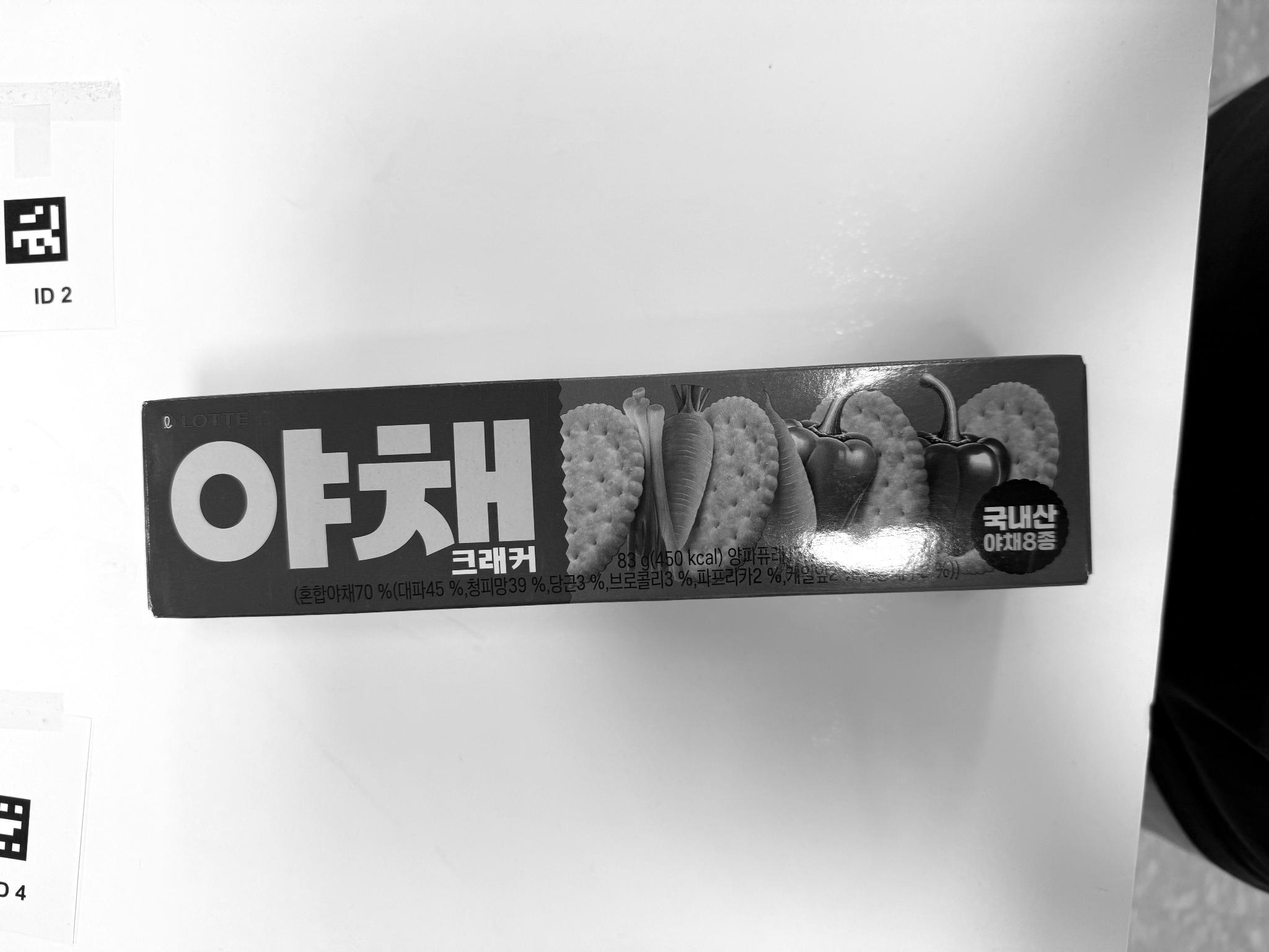cracker_vege: (140, 355, 1092, 618)
